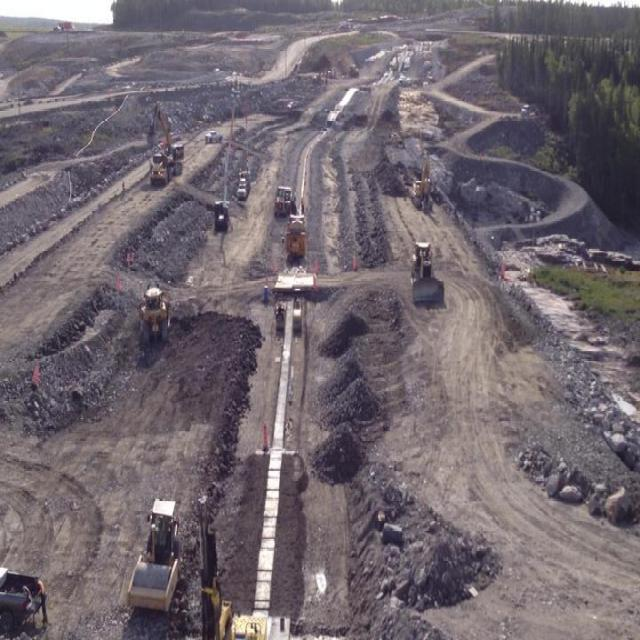Dump Truck: (148, 152, 174, 186)
Excavator: (144, 98, 182, 171), (409, 154, 433, 212)
Roller: (122, 494, 181, 612)
